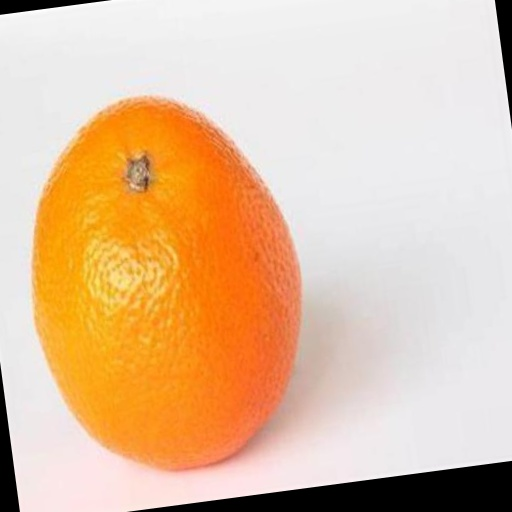fruit: (32, 97, 300, 469)
